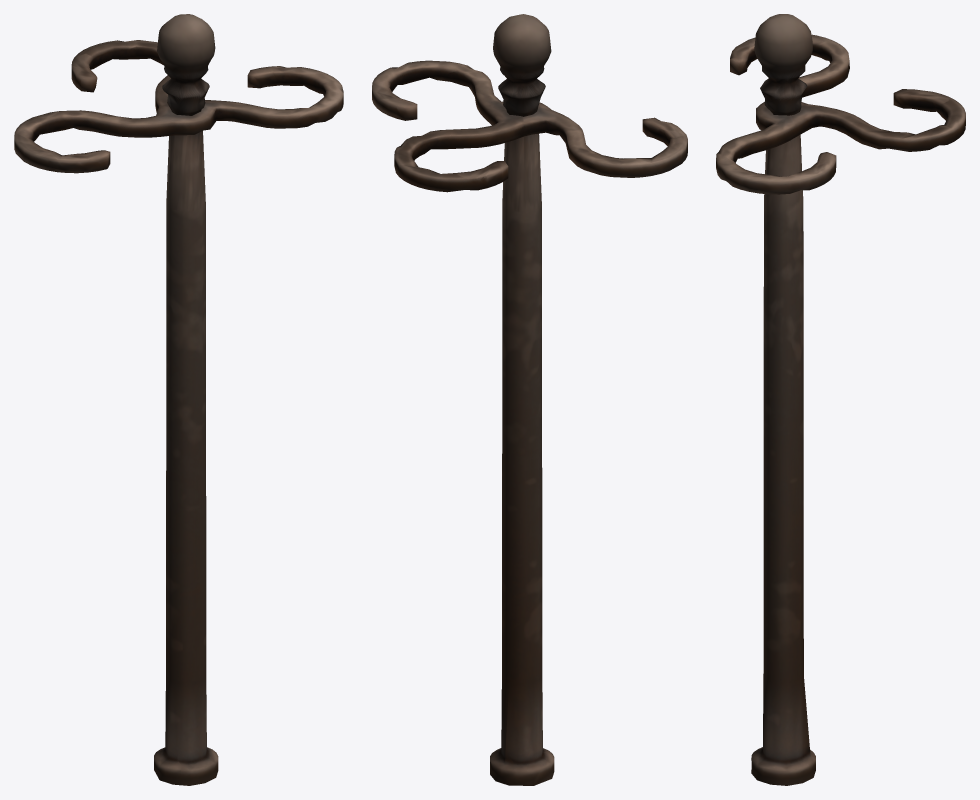
Rendered from SM_FireToolsStickHolder.FBX.
3 renders of one model, left to right at view 1: azimuth 30°, elevation 25°; view 2: azimuth 150°, elevation 25°; view 3: azimuth 270°, elevation 25°, orthographic.
Visible parts, largest first — view 1: SM_FireToolsStickHolder; view 2: SM_FireToolsStickHolder; view 3: SM_FireToolsStickHolder.
Boxes of the visible parts, x1,y1,x2,y2 form: SM_FireToolsStickHolder: [14, 14, 343, 785]; SM_FireToolsStickHolder: [372, 14, 687, 785]; SM_FireToolsStickHolder: [716, 14, 965, 785].
Size of what is drawn, in the model's own units: 32.93 by 23.25 by 77.64.
